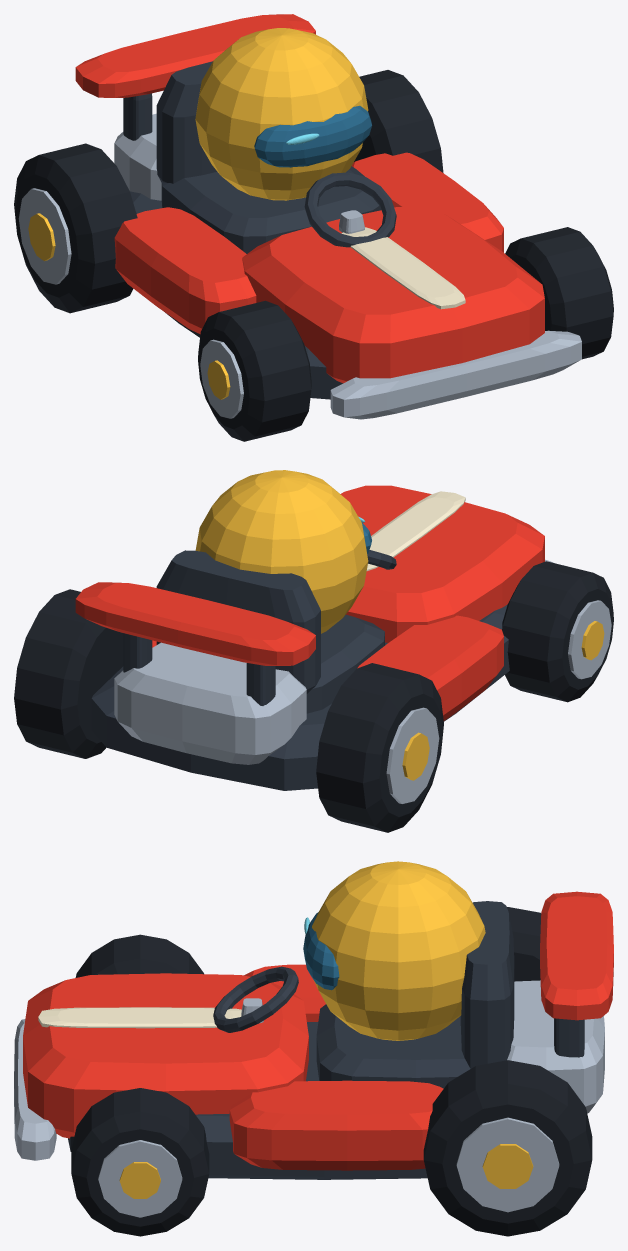
Rendered from kart_low_poly.glb.
3 renders of one model, top to bottom at view 1: azimuth 30°, elevation 25°; view 2: azimuth 150°, elevation 25°; view 3: azimuth 270°, elevation 25°, orthographic. The views are drawn at different scales.
Parts seen in each view (by area): view 1: Pneu (×4), Carenagem dianteira, Capacete, Lateral E, Parachoque, Banco, Aerofolio, Lateral D, Encosto, Aro (×2), Viseira, Faixa central (+5 smaller); view 2: Pneu (×3), Carenagem dianteira, Capacete, Motor, Aerofolio, Chassi, Encosto, Lateral E, Aro (×2), Banco, Faixa central, Cubo (×2) (+2 smaller); view 3: Pneu (×4), Carenagem dianteira, Capacete, Lateral D, Aro (×2), Aerofolio, Banco, Encosto, Motor, Chassi, Faixa central, Cubo (×2) (+5 smaller).
Part boxes in pixels (left/top/right/bottom): Pneu (×4): left=14, top=70, right=613, bottom=441; Carenagem dianteira: left=242, top=207, right=544, bottom=383; Capacete: left=195, top=28, right=368, bottom=200; Lateral E: left=114, top=207, right=256, bottom=334; Parachoque: left=330, top=330, right=581, bottom=419; Banco: left=161, top=166, right=381, bottom=253; Aerofolio: left=75, top=14, right=315, bottom=97; Lateral D: left=352, top=152, right=503, bottom=252; Encosto: left=156, top=61, right=216, bottom=183; Aro (×2): left=18, top=188, right=243, bottom=418; Viseira: left=254, top=105, right=371, bottom=167; Faixa central: left=341, top=227, right=465, bottom=309; Pneu (×3): left=14, top=561, right=613, bottom=832; Carenagem dianteira: left=340, top=485, right=544, bottom=642; Capacete: left=195, top=470, right=368, bottom=633; Motor: left=114, top=642, right=306, bottom=764; Aerofolio: left=75, top=582, right=315, bottom=665; Chassi: left=91, top=604, right=509, bottom=790; Encosto: left=156, top=550, right=320, bottom=693; Lateral E: left=357, top=615, right=503, bottom=720; Aro (×2): left=386, top=600, right=611, bottom=803; Banco: left=306, top=614, right=384, bottom=713; Faixa central: left=366, top=491, right=465, bottom=570; Cubo (×2): left=402, top=621, right=604, bottom=780; Pneu (×4): left=71, top=907, right=592, bottom=1236; Carenagem dianteira: left=23, top=973, right=308, bottom=1138; Capacete: left=312, top=861, right=485, bottom=1040; Lateral D: left=229, top=1080, right=443, bottom=1170; Aro (×2): left=98, top=1117, right=559, bottom=1217; Aerofolio: left=540, top=891, right=613, bottom=1020; Banco: left=316, top=1004, right=470, bottom=1088; Encosto: left=460, top=901, right=514, bottom=1068; Motor: left=507, top=980, right=604, bottom=1113; Chassi: left=68, top=1022, right=427, bottom=1179; Faixa central: left=38, top=1007, right=241, bottom=1028; Cubo (×2): left=119, top=1144, right=533, bottom=1198.
Size of the model in its own units: 1.77 by 1.21 by 2.35.
